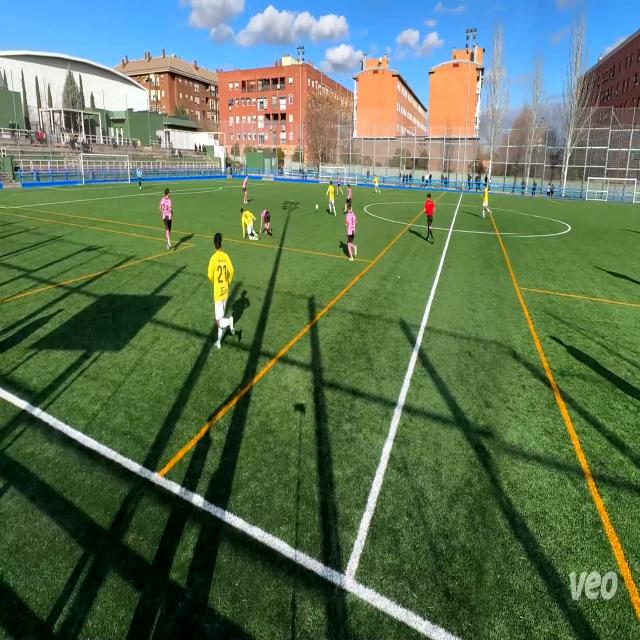bigarea_bottom_inner: (3, 204, 10, 213)
bigarea_top_inner: (262, 182, 267, 187)
bigarea_top_outter: (205, 179, 210, 183)
bottom_arc_area_intersection: (137, 192, 144, 198)
corner: (234, 177, 238, 180)
halfcircle_bottom: (444, 220, 456, 240)
halfcircle_top: (456, 200, 462, 210)
midline_bottom_intersection: (326, 538, 365, 614)
midline_top_intersection: (461, 191, 464, 195)
smallarea_bottom_inner: (64, 187, 69, 194)
smallarea_bottom_outter: (42, 186, 48, 190)
smallarea_top_inner: (174, 180, 179, 187)
smallarea_top_outter: (157, 180, 162, 183)
top_arc_area_intersection: (218, 183, 224, 192)
